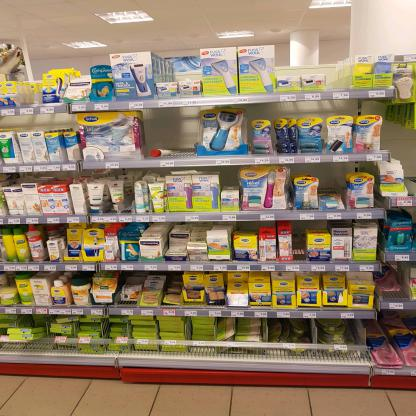Void: (148, 108, 194, 147), (155, 56, 201, 80), (314, 164, 342, 192), (325, 58, 349, 90), (278, 59, 317, 75)
